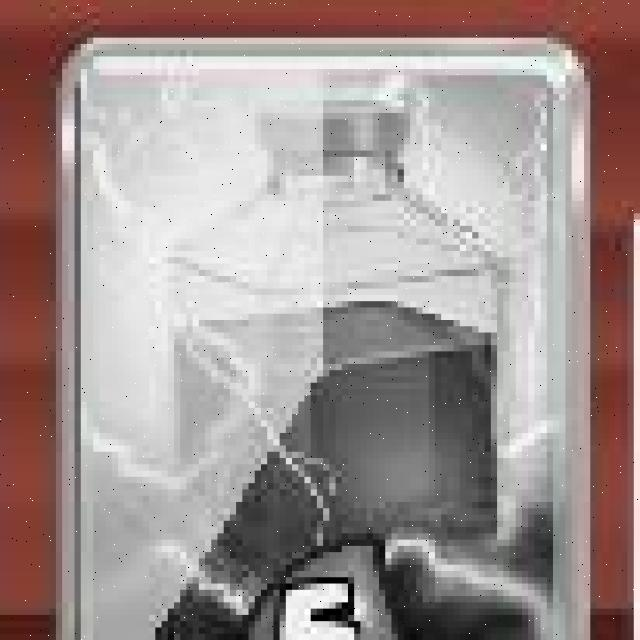Lightning: (58, 39, 597, 640)
